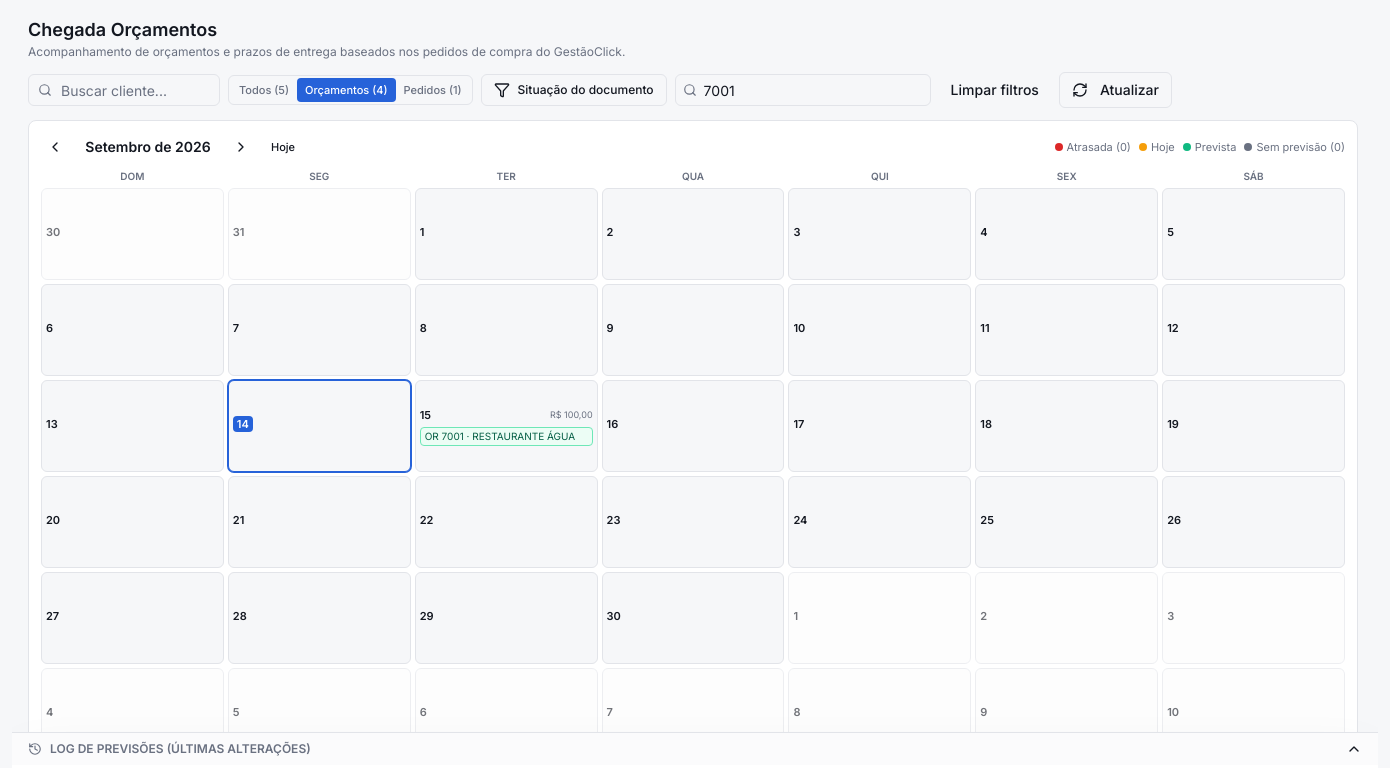
Scenario: filtros da página de chegada de peças › não reaproveita o card de outro orçamento quando ambos têm o mesmo PC
This screenshot has width=1390, height=768.
Earlier steps of the test are not shown.
Later steps or results of the test are not shown.
expect the button "OR 7002 ·" is not shown: met
Clear the field named "Buscar em todas as chegadas" at (803, 90), box 675,74 -> 931,106
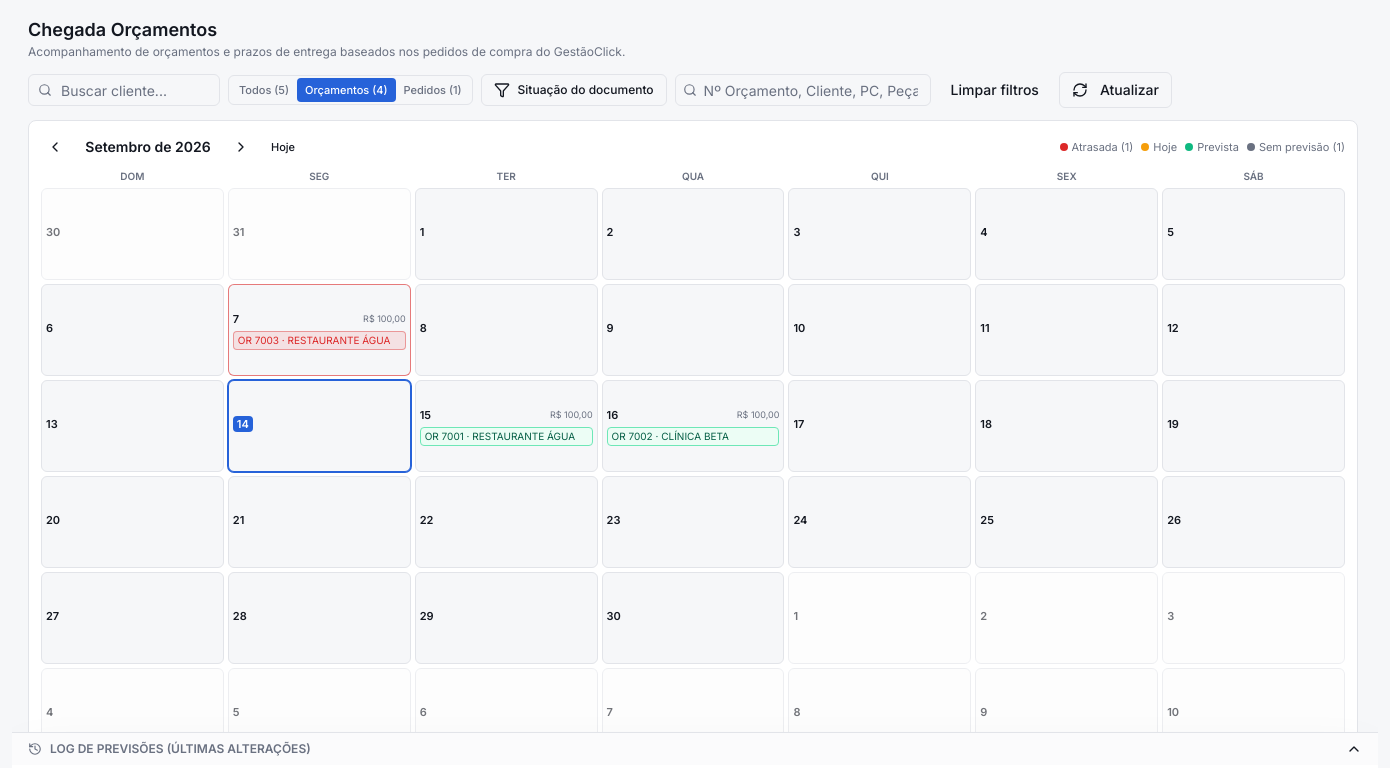
Type "7002" into the field named "Buscar em todas as chegadas" at (803, 90), box 675,74 -> 931,106
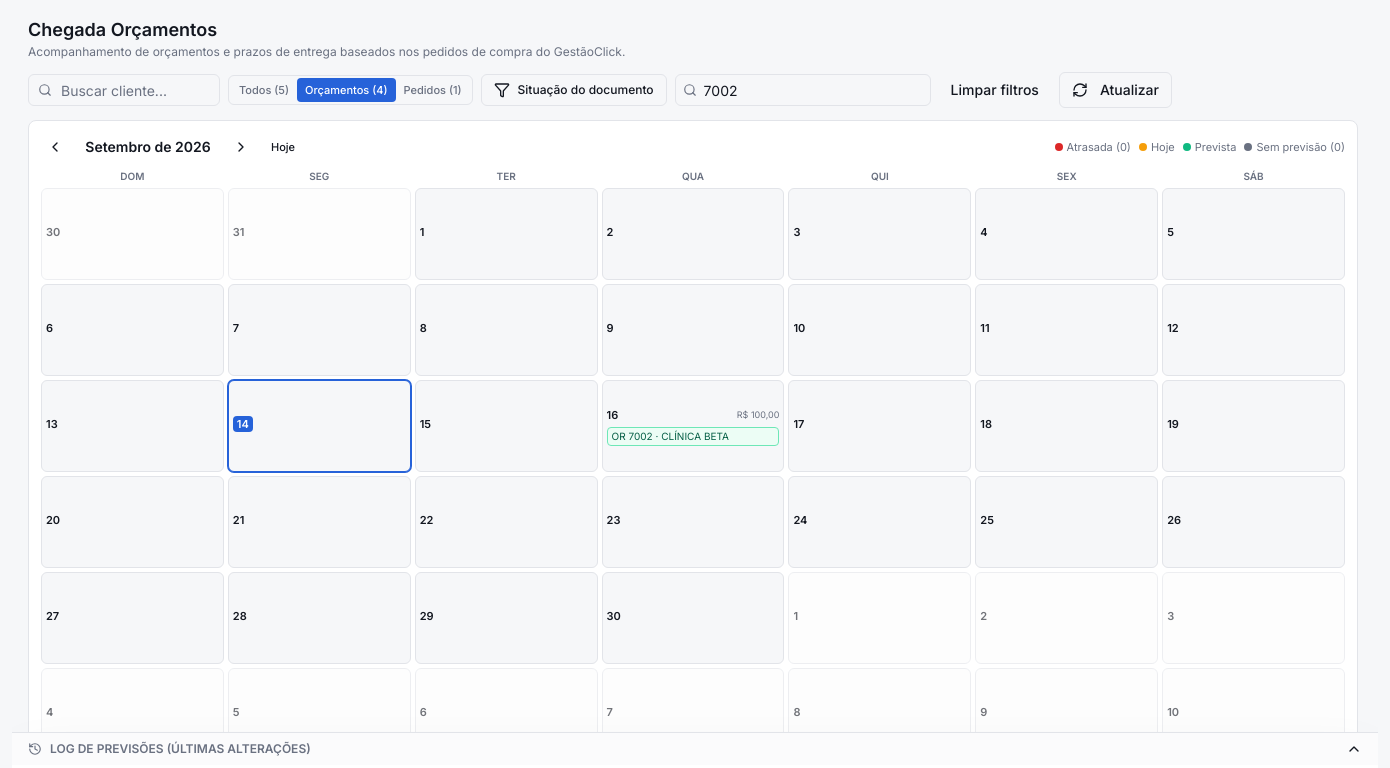
expect the button "OR 7001 ·" is gone: met
Replace the text in the field named "Buscar em todas as chegadas" with "7001" at (803, 90), box 675,74 -> 931,106
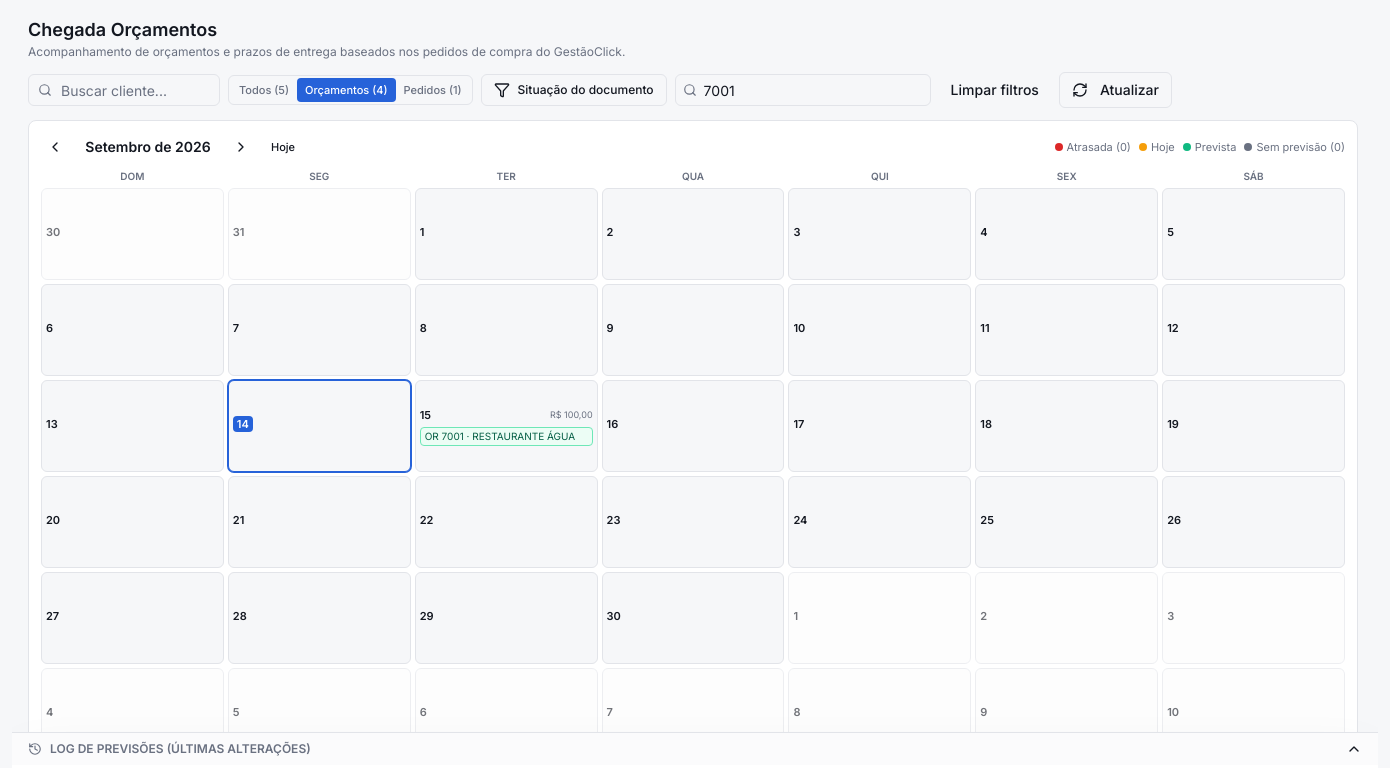
expect the button "OR 7002 ·" is gone: met
Clear the field named "Buscar em todas as chegadas" at (803, 90), box 675,74 -> 931,106
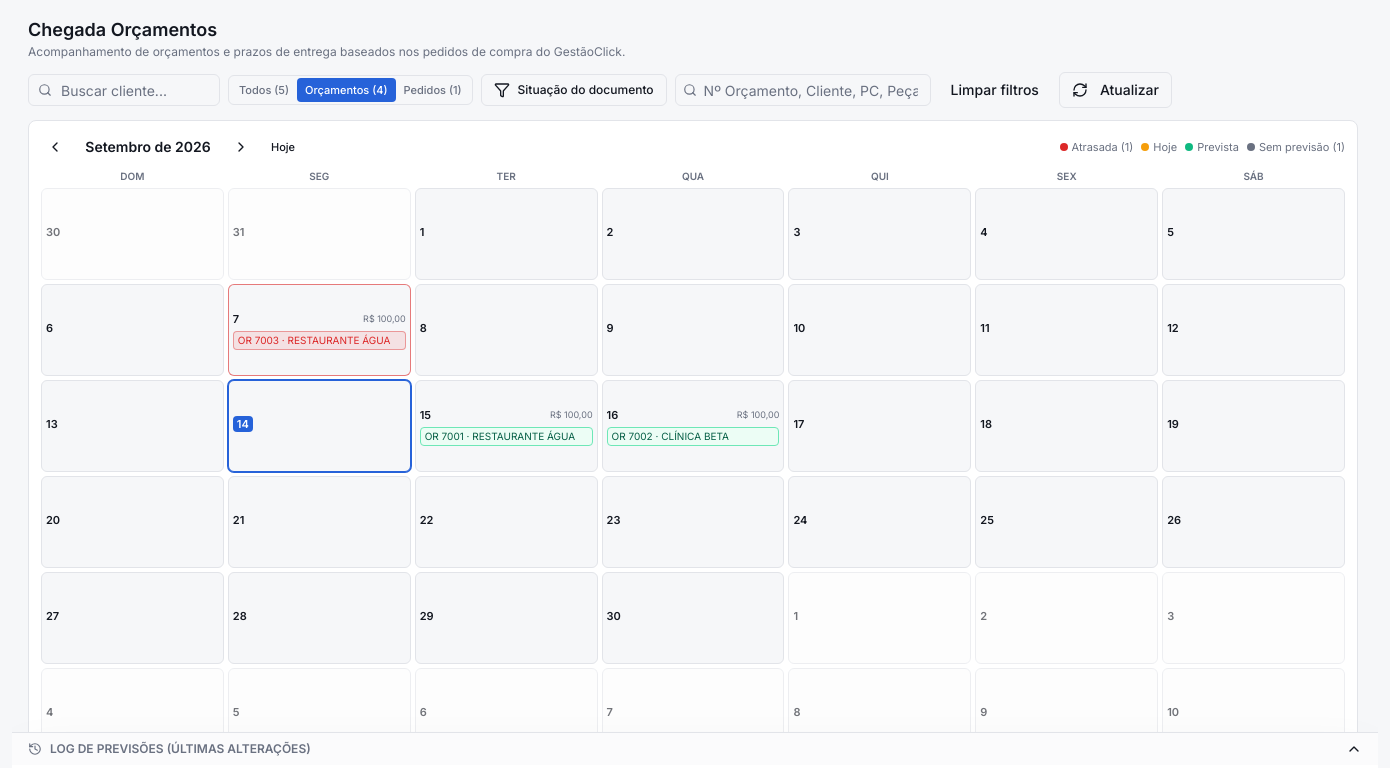
Type "7002" into the field named "Buscar em todas as chegadas" at (803, 90), box 675,74 -> 931,106
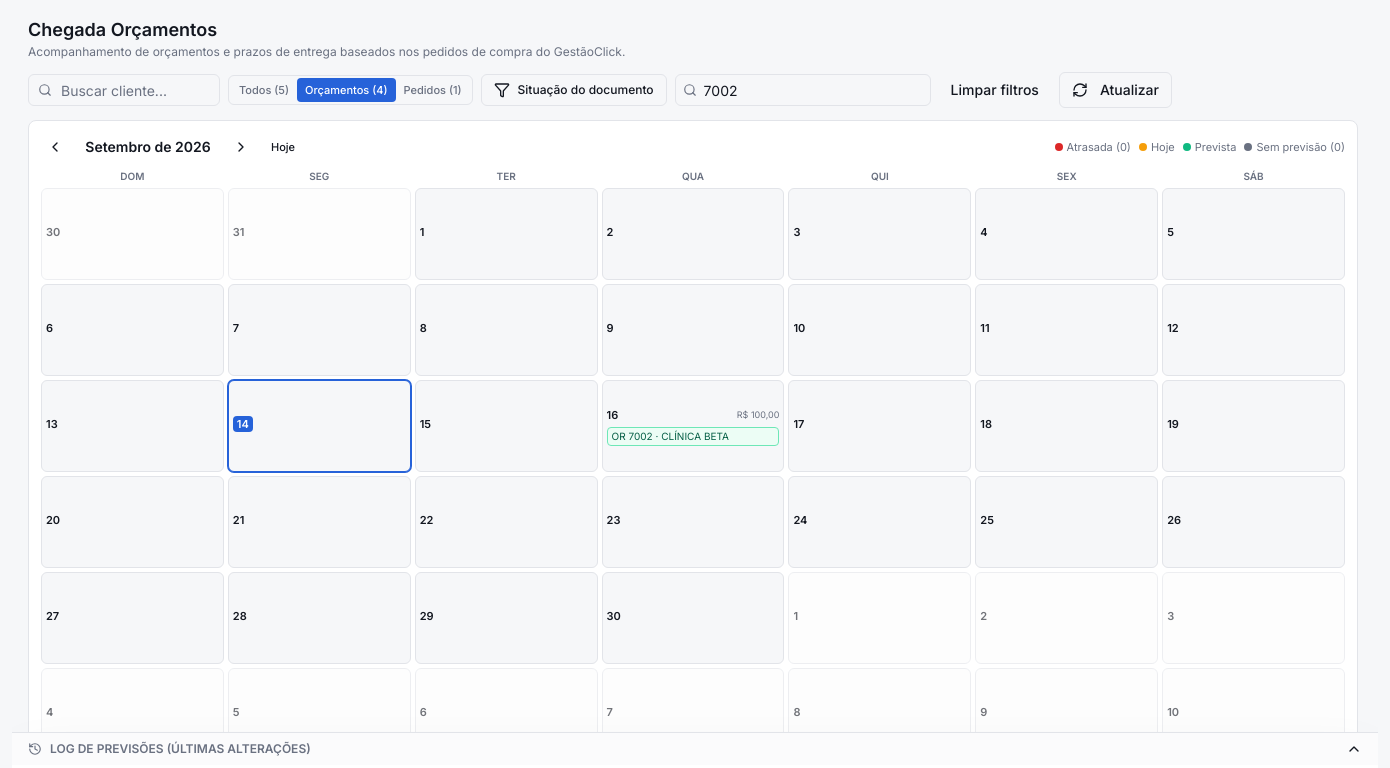
expect the button "OR 7001 ·" is gone: met
Replace the text in the field named "Buscar em todas as chegadas" with "7001" at (803, 90), box 675,74 -> 931,106
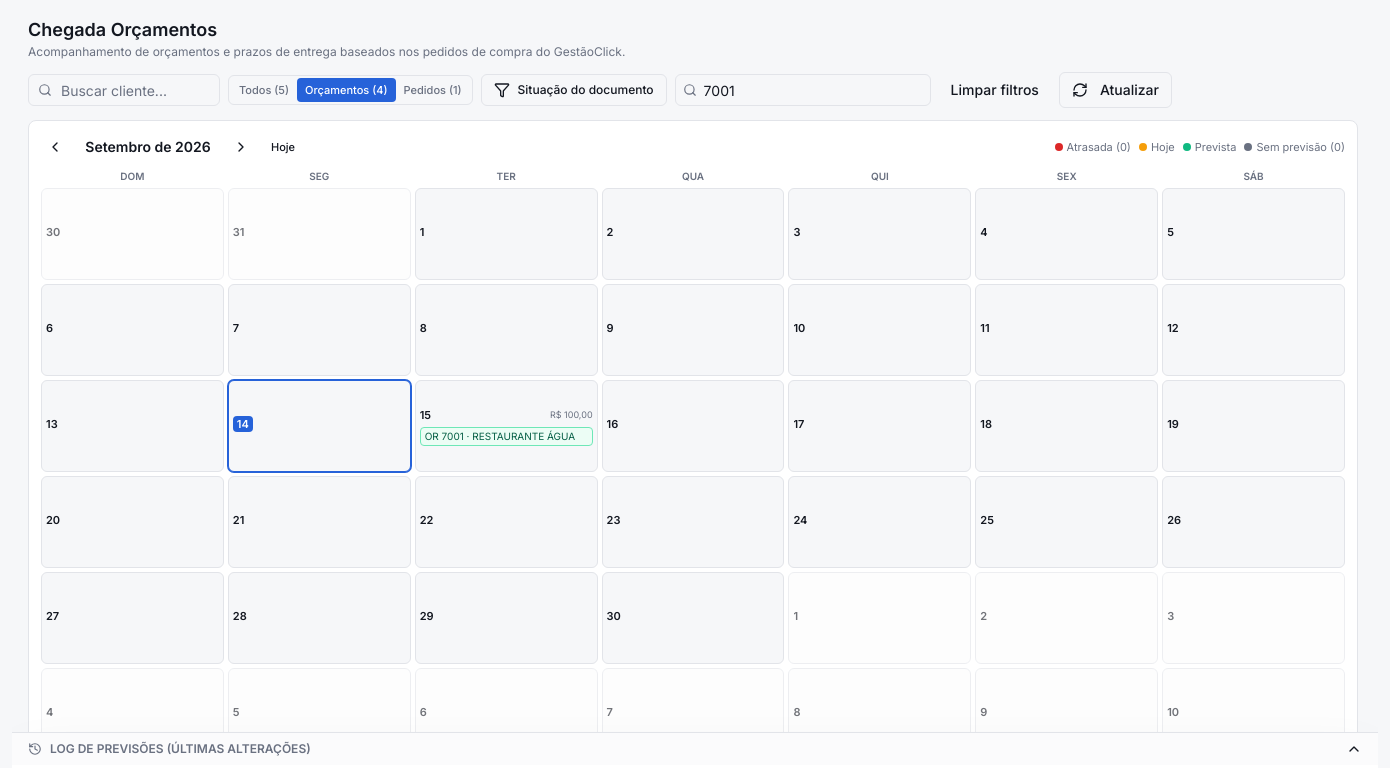
expect the button "OR 7002 ·" is gone: met
